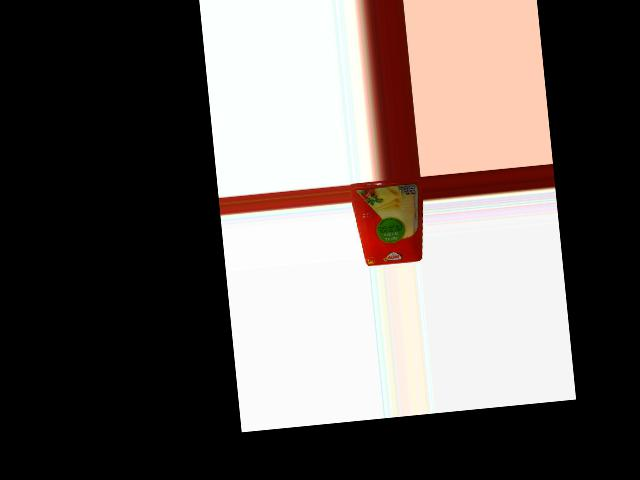cheese: (349, 176, 427, 266)
